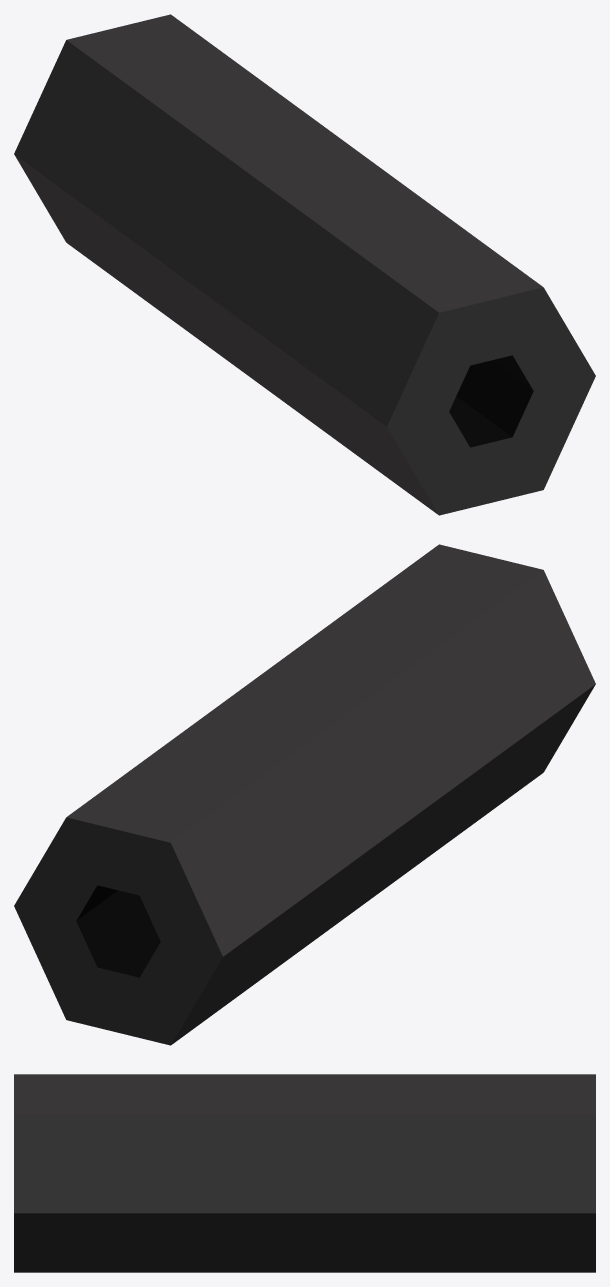
Rendered from gen_suppressor_1.gltf.
The picture shows the model from 3 angles, top to bottom: view 1: azimuth 30°, elevation 25°; view 2: azimuth 150°, elevation 25°; view 3: azimuth 270°, elevation 25°; orthographic projection. The views are drawn at different scales.
Parts seen in each view (by area): view 1: tube; view 2: tube; view 3: tube.
Boxes of the visible parts, x1,y1,x2,y2 form: tube: [14, 14, 595, 515]; tube: [14, 544, 595, 1045]; tube: [14, 1074, 595, 1272].
Bounding box in the file's own units: 0.4047 × 0.375 × 1.25.
1 material, 1 textured.
